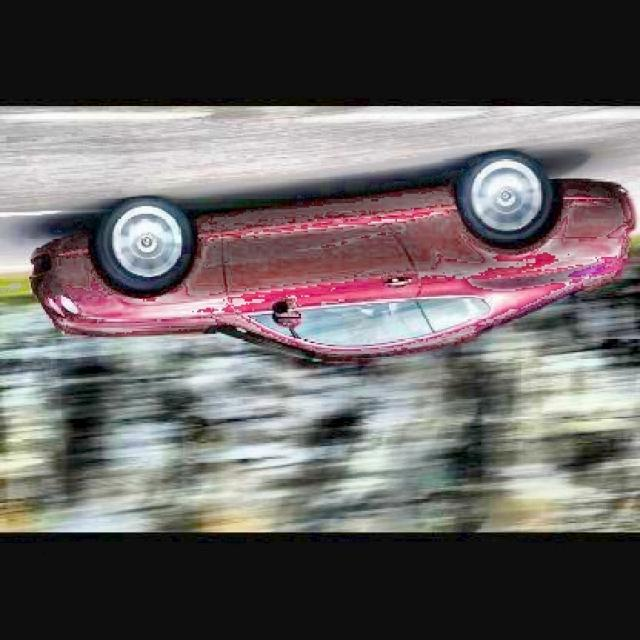maroon: (34, 140, 640, 409)
